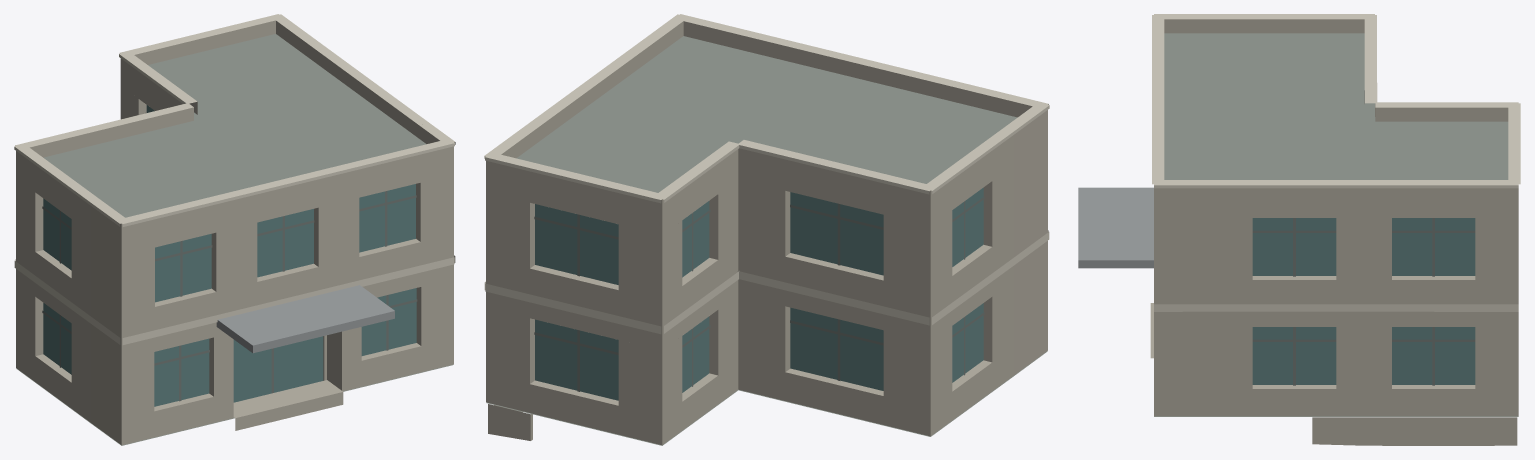
3 views of the same model, side by side, from view 1: azimuth 30°, elevation 25°; view 2: azimuth 150°, elevation 25°; view 3: azimuth 270°, elevation 25° (orthographic). The views are drawn at different scales.
Visible parts, largest first — view 1: osm172536208__wall, osm172536208__roof, osm172536208__glass, osm172536208__trim, osm172536208__parapet, osm172536208__canopy, osm172536208__entranceThreshold_0, osm172536208__frame; view 2: osm172536208__wall, osm172536208__roof, osm172536208__glass, osm172536208__trim, osm172536208__parapet, osm172536208__frame, osm172536208__foundationSkirt; view 3: osm172536208__wall, osm172536208__roof, osm172536208__glass, osm172536208__trim, osm172536208__parapet, osm172536208__canopy, osm172536208__foundationSkirt, osm172536208__frame.
Part boxes in pixels (x1=…): osm172536208__wall: x1=16, y1=67, x2=453, y2=445; osm172536208__roof: x1=16, y1=34, x2=453, y2=445; osm172536208__glass: x1=43, y1=105, x2=416, y2=406; osm172536208__trim: x1=14, y1=14, x2=455, y2=344; osm172536208__parapet: x1=16, y1=20, x2=453, y2=236; osm172536208__canopy: x1=216, y1=285, x2=394, y2=353; osm172536208__entranceThreshold_0: x1=233, y1=380, x2=343, y2=430; osm172536208__frame: x1=42, y1=191, x2=417, y2=401; osm172536208__wall: x1=486, y1=119, x2=1047, y2=445; osm172536208__roof: x1=486, y1=36, x2=1047, y2=445; osm172536208__glass: x1=535, y1=187, x2=983, y2=400; osm172536208__trim: x1=484, y1=14, x2=1049, y2=334; osm172536208__parapet: x1=486, y1=21, x2=1047, y2=213; osm172536208__frame: x1=534, y1=196, x2=984, y2=391; osm172536208__foundationSkirt: x1=488, y1=404, x2=532, y2=440; osm172536208__wall: x1=1154, y1=198, x2=1518, y2=416; osm172536208__roof: x1=1154, y1=33, x2=1518, y2=416; osm172536208__glass: x1=1252, y1=218, x2=1475, y2=384; osm172536208__trim: x1=1152, y1=14, x2=1520, y2=311; osm172536208__parapet: x1=1154, y1=19, x2=1518, y2=198; osm172536208__canopy: x1=1078, y1=187, x2=1153, y2=268; osm172536208__foundationSkirt: x1=1312, y1=417, x2=1517, y2=445; osm172536208__frame: x1=1252, y1=218, x2=1475, y2=385.
Bounding box in the file's own units: 11.8 × 8.42 × 12.88.
